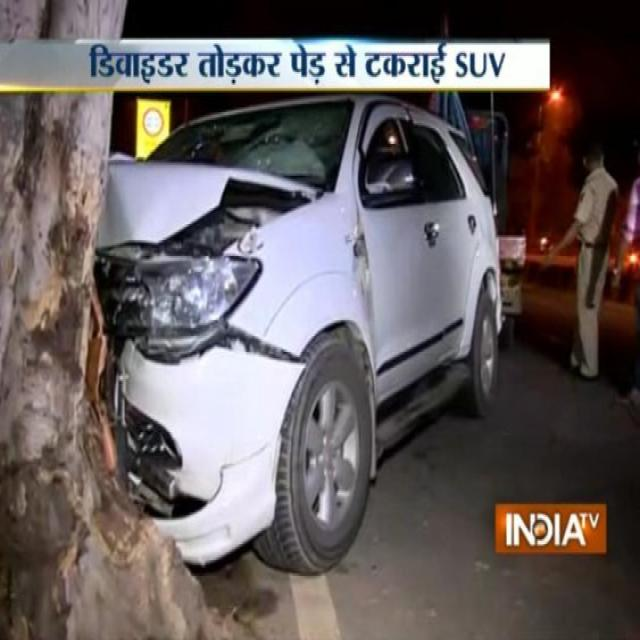accident: (95, 95, 501, 573)
